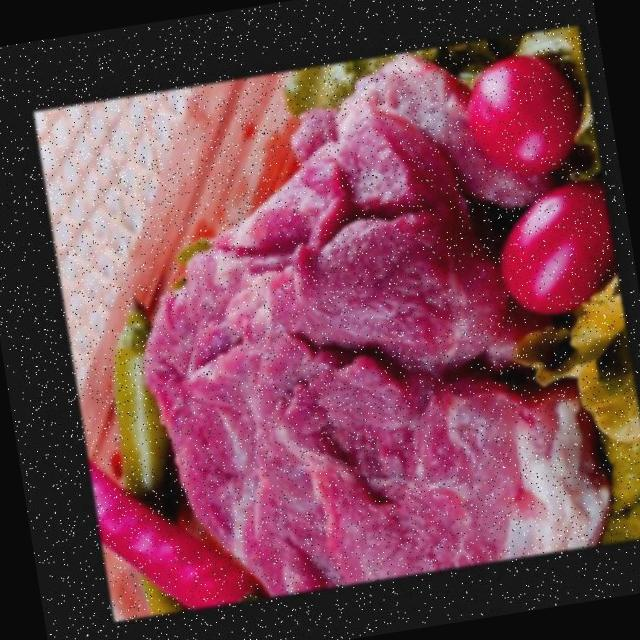pork: (144, 108, 619, 593), (292, 50, 540, 209)
